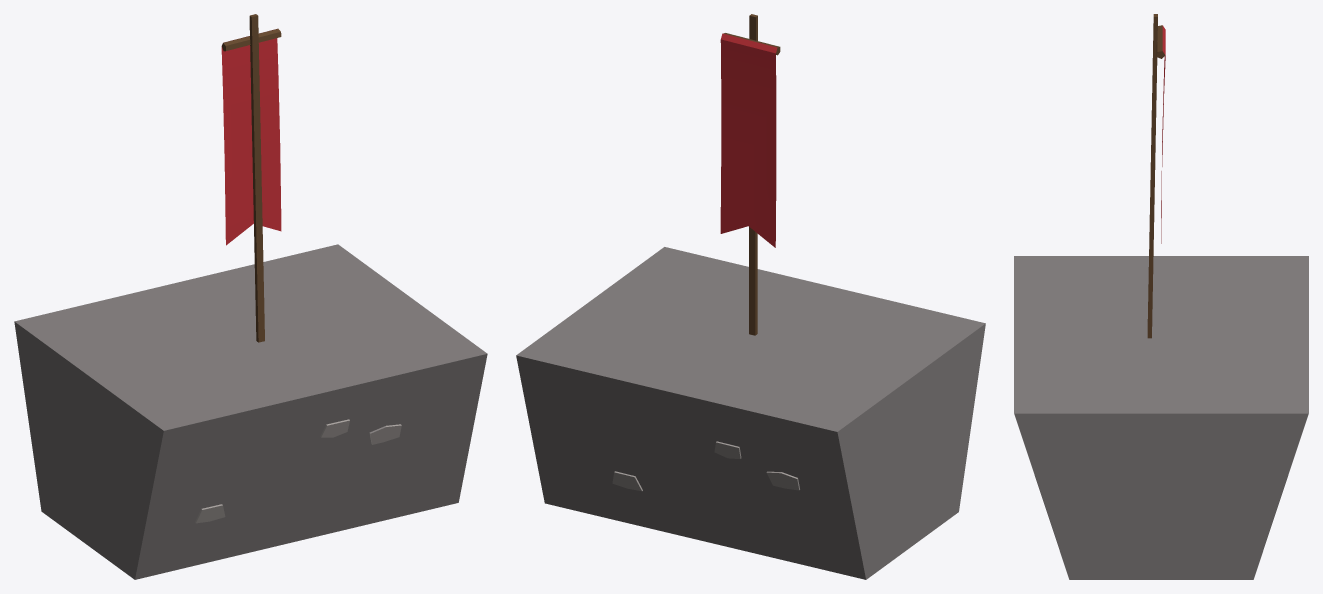
The model's file is Touch Base.fbx.
3 renders of one model, left to right at view 1: azimuth 30°, elevation 25°; view 2: azimuth 150°, elevation 25°; view 3: azimuth 270°, elevation 25°, orthographic.
Visible parts, largest first — view 1: Touch Base, japan-flag_big; view 2: Touch Base, japan-flag_big; view 3: Touch Base, japan-flag_big.
Boxes of the visible parts, box(x1,y1,x2,y2) form: Touch Base: box(14, 244, 487, 579); japan-flag_big: box(221, 14, 281, 342); Touch Base: box(516, 247, 985, 579); japan-flag_big: box(720, 14, 780, 335); Touch Base: box(1014, 256, 1308, 579); japan-flag_big: box(1147, 14, 1165, 338).
Bounding box in the file's own units: 5.01 × 7.3 × 4.
